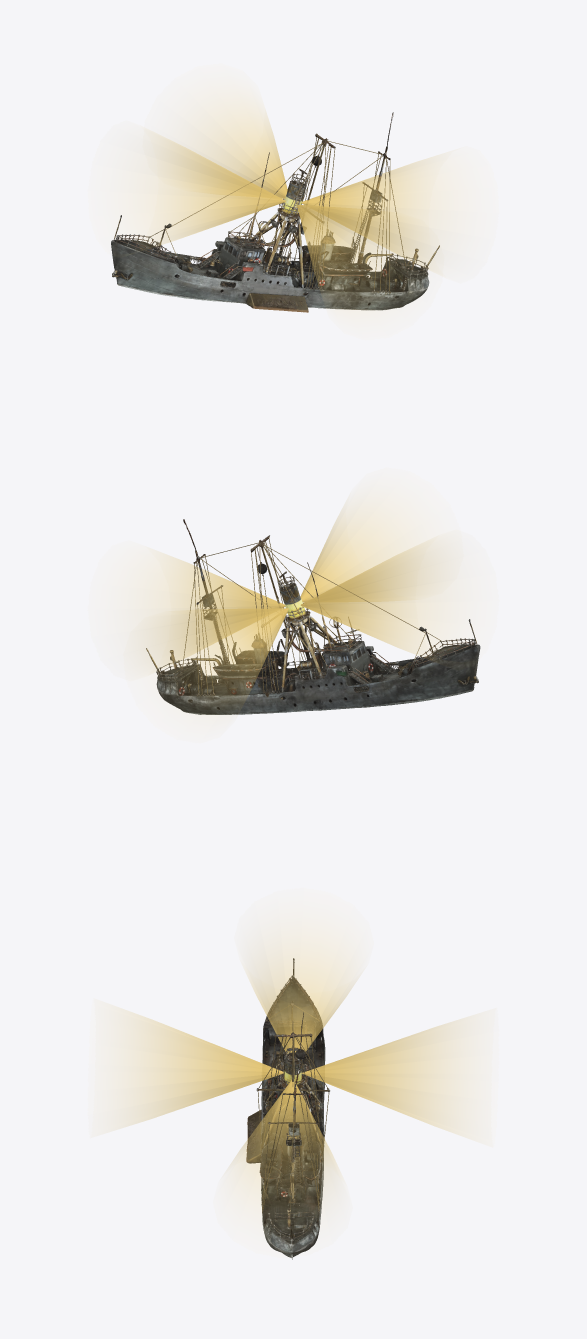
File: feuerschiff_noKeys.glb
3 renders of one model, top to bottom at view 1: azimuth 30°, elevation 25°; view 2: azimuth 150°, elevation 25°; view 3: azimuth 270°, elevation 25°, orthographic. The views are drawn at different scales.
Visible parts, largest first — view 1: Feuerwehrschiff_poisson_150k.baked, Cylinder.008, Cylinder.009, Cylinder.006, Cylinder.007, Takelage.004; view 2: Feuerwehrschiff_poisson_150k.baked, Cylinder.008, Cylinder.007, Cylinder.009, Cylinder.006, Takelage.004; view 3: Feuerwehrschiff_poisson_150k.baked, Cylinder.006, Cylinder.007, Cylinder.008, Cylinder.009, Takelage.004.
Part boxes in pixels (left/top/right/bottom): Feuerwehrschiff_poisson_150k.baked: left=111, top=112, right=439, bottom=312; Cylinder.008: left=148, top=135, right=285, bottom=247; Cylinder.009: left=301, top=155, right=439, bottom=267; Cylinder.006: left=297, top=204, right=400, bottom=300; Cylinder.007: left=188, top=104, right=287, bottom=198; Takelage.004: left=150, top=137, right=405, bottom=290; Feuerwehrschiff_poisson_150k.baked: left=146, top=519, right=480, bottom=714; Cylinder.008: left=300, top=544, right=439, bottom=657; Cylinder.007: left=173, top=608, right=288, bottom=703; Cylinder.009: left=147, top=553, right=285, bottom=663; Cylinder.006: left=300, top=507, right=410, bottom=602; Takelage.004: left=182, top=538, right=440, bottom=693; Feuerwehrschiff_poisson_150k.baked: left=246, top=958, right=330, bottom=1259; Cylinder.006: left=120, top=1009, right=283, bottom=1127; Cylinder.007: left=301, top=1018, right=465, bottom=1136; Cylinder.008: left=247, top=941, right=355, bottom=1054; Cylinder.009: left=231, top=1080, right=339, bottom=1204; Takelage.004: left=258, top=1005, right=329, bottom=1211.
Size of the model in its own units: 0.6699 by 0.3852 by 0.6459.
Materials: 3 (2 with a texture image).
